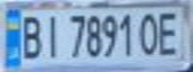1: (118, 10, 136, 57)
7: (63, 10, 87, 58)
8: (84, 11, 103, 58)
9: (100, 11, 121, 58)
B: (15, 11, 45, 61)
E: (154, 7, 187, 57)
I: (36, 11, 63, 60)
O: (136, 9, 163, 57)
